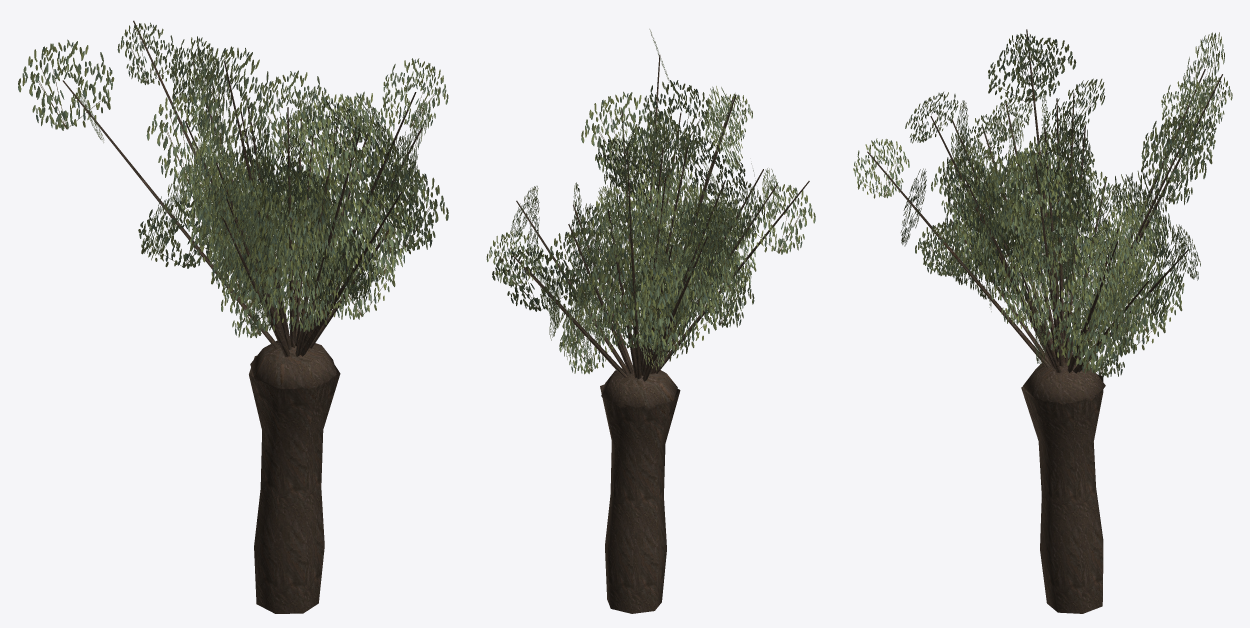
File: tpl_rec_bank_meadow_pollard_hi.glb
3 views of the same model, side by side, from view 1: azimuth 30°, elevation 25°; view 2: azimuth 150°, elevation 25°; view 3: azimuth 270°, elevation 25° (orthographic). The views are drawn at different scales.
Visible parts, largest first — view 1: tpl_rec_bank_meadow_pollard_hi; view 2: tpl_rec_bank_meadow_pollard_hi; view 3: tpl_rec_bank_meadow_pollard_hi.
Boxes of the visible parts, x1,y1,x2,y2 form: tpl_rec_bank_meadow_pollard_hi: (18,20,448,613); tpl_rec_bank_meadow_pollard_hi: (486,29,815,613); tpl_rec_bank_meadow_pollard_hi: (853,29,1232,613).
Bounding box in the file's own units: 3.48 × 6.24 × 4.07.
Materials: 2 (2 with a texture image).
